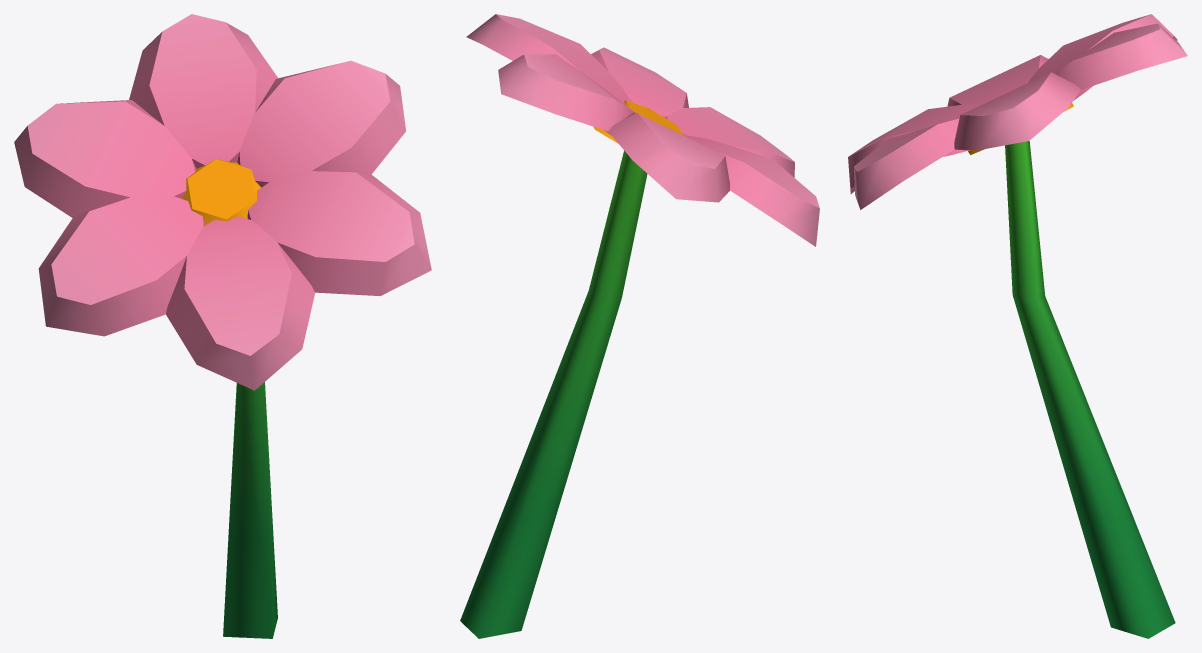
Rendered from Flowers_3_G.fbx.
3 renders of one model, left to right at view 1: azimuth 30°, elevation 25°; view 2: azimuth 150°, elevation 25°; view 3: azimuth 270°, elevation 25°, orthographic. The views are drawn at different scales.
Visible parts, largest first — view 1: Flowers_3_G; view 2: Flowers_3_G; view 3: Flowers_3_G.
Part boxes in pixels (box(x1,y1,x2,y2)): Flowers_3_G: box(14, 14, 431, 638); Flowers_3_G: box(460, 14, 819, 638); Flowers_3_G: box(848, 14, 1187, 638).
Size of the model in its own units: 19.93 by 32.3 by 17.35.
